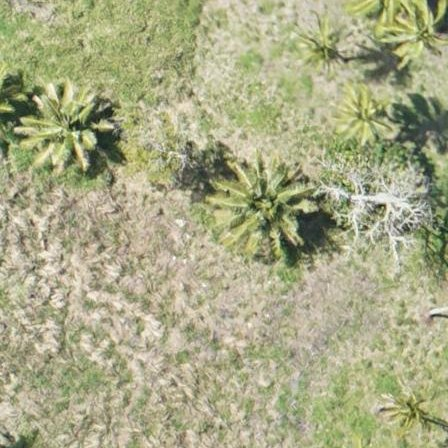palm_tree: (219, 155, 302, 244), (22, 82, 96, 161), (326, 81, 393, 153), (379, 3, 444, 72), (381, 387, 438, 436), (303, 20, 344, 64)
